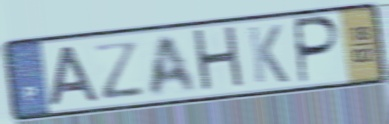A: (46, 44, 102, 109), (147, 32, 200, 99)
H: (190, 23, 249, 96)
K: (245, 22, 291, 86)
P: (294, 14, 343, 87)
Z: (91, 38, 147, 102)
